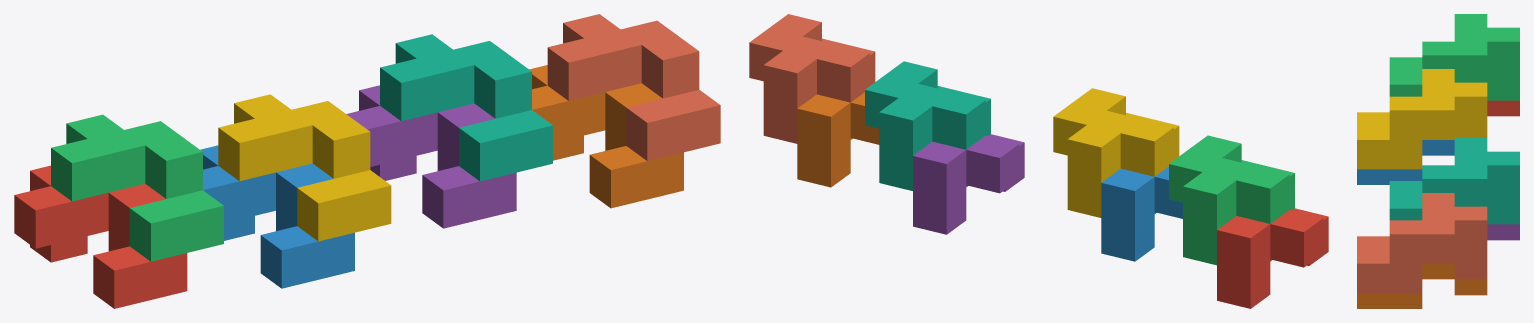
File: tiling.obj
The picture shows the model from 3 angles, left to right: view 1: azimuth 30°, elevation 25°; view 2: azimuth 150°, elevation 25°; view 3: azimuth 270°, elevation 25°; orthographic projection. The views are drawn at different scales.
Visible parts, largest first — view 1: copy_1_domain_8, copy_1_domain_4, copy_1_domain_3, copy_1_domain_7, copy_1_domain_1, copy_1_domain_5, copy_1_domain_6, copy_1_domain_2; view 2: copy_1_domain_8, copy_1_domain_4, copy_1_domain_7, copy_1_domain_3, copy_1_domain_5, copy_1_domain_1, copy_1_domain_6, copy_1_domain_2; view 3: copy_1_domain_8, copy_1_domain_4, copy_1_domain_3, copy_1_domain_7, copy_1_domain_6, copy_1_domain_2, copy_1_domain_1, copy_1_domain_5.
Part boxes in pixels (bbox=[...]): copy_1_domain_8: bbox=[547, 14, 720, 161]; copy_1_domain_4: bbox=[218, 94, 391, 241]; copy_1_domain_3: bbox=[51, 114, 223, 261]; copy_1_domain_7: bbox=[380, 34, 552, 181]; copy_1_domain_1: bbox=[14, 165, 187, 308]; copy_1_domain_5: bbox=[346, 85, 516, 228]; copy_1_domain_6: bbox=[529, 65, 683, 208]; copy_1_domain_2: bbox=[200, 145, 354, 288]; copy_1_domain_8: bbox=[749, 14, 875, 143]; copy_1_domain_4: bbox=[1053, 88, 1179, 217]; copy_1_domain_7: bbox=[865, 61, 990, 190]; copy_1_domain_3: bbox=[1169, 135, 1294, 265]; copy_1_domain_5: bbox=[913, 134, 1024, 234]; copy_1_domain_1: bbox=[1217, 208, 1328, 308]; copy_1_domain_6: bbox=[797, 92, 879, 187]; copy_1_domain_2: bbox=[1101, 166, 1182, 261]; copy_1_domain_8: bbox=[1357, 193, 1487, 293]; copy_1_domain_4: bbox=[1357, 69, 1487, 169]; copy_1_domain_3: bbox=[1389, 14, 1519, 100]; copy_1_domain_7: bbox=[1389, 138, 1519, 224]; copy_1_domain_6: bbox=[1357, 263, 1487, 308]; copy_1_domain_2: bbox=[1357, 140, 1454, 184]; copy_1_domain_1: bbox=[1487, 100, 1519, 116]; copy_1_domain_5: bbox=[1487, 224, 1519, 240].
Bounding box in the file's own units: 17 × 3 × 5.
